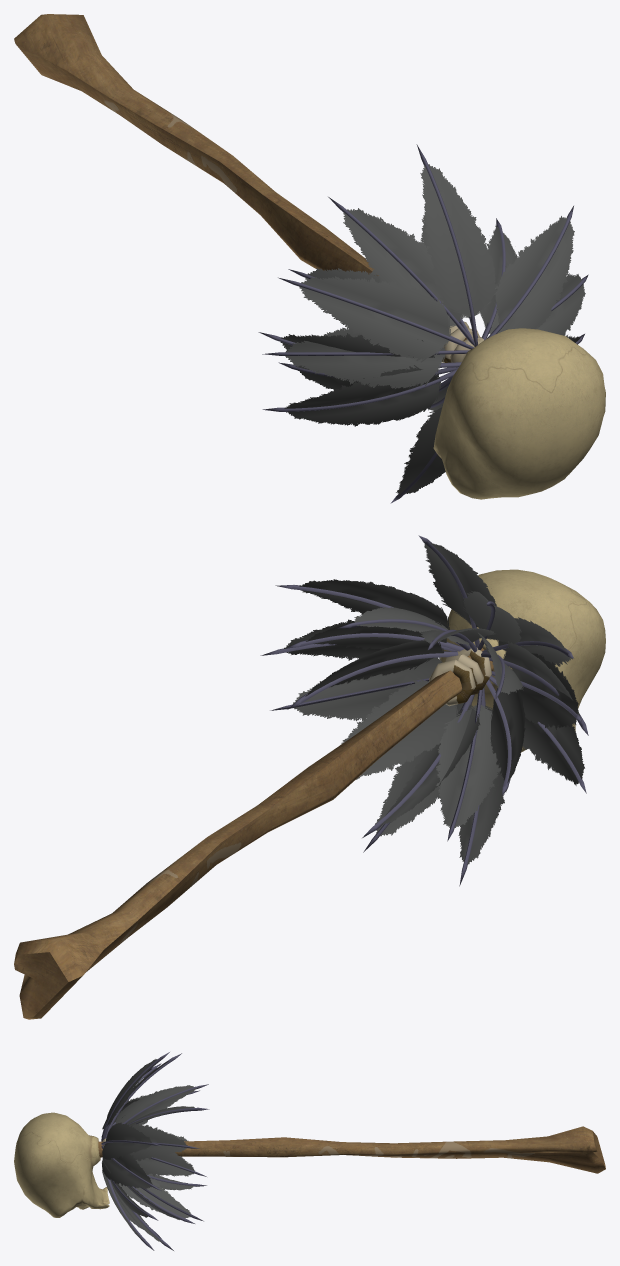
File: PapuPapu_Staff (1).fbx
3 views of the same model, one above another, from view 1: azimuth 30°, elevation 25°; view 2: azimuth 150°, elevation 25°; view 3: azimuth 270°, elevation 25° (orthographic). The views are drawn at different scales.
Visible parts, largest first — view 1: Papu's Staff_mesh; view 2: Papu's Staff_mesh; view 3: Papu's Staff_mesh.
Boxes of the visible parts, left/top/right/bottom form: Papu's Staff_mesh: left=14, top=14, right=605, bottom=503; Papu's Staff_mesh: left=14, top=535, right=605, bottom=1019; Papu's Staff_mesh: left=14, top=1052, right=605, bottom=1250.
Bounding box in the file's own units: 161 × 163 × 443.
